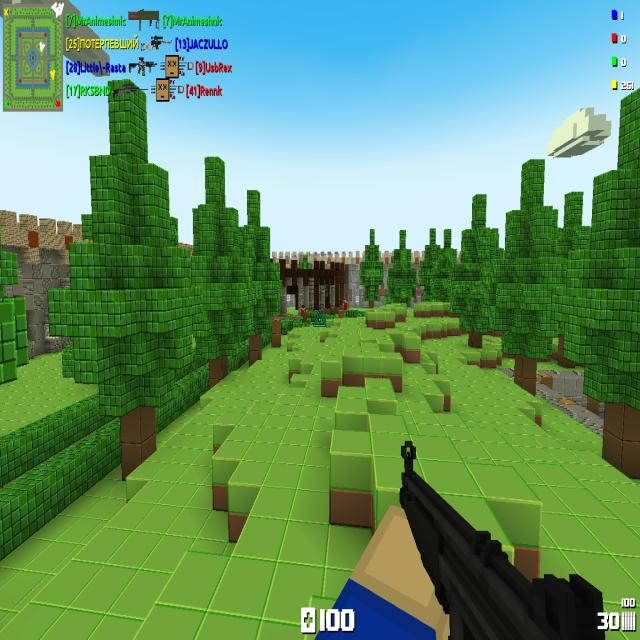enemy: (324, 284, 328, 300), (301, 304, 306, 316), (342, 299, 347, 310), (302, 316, 308, 323)
